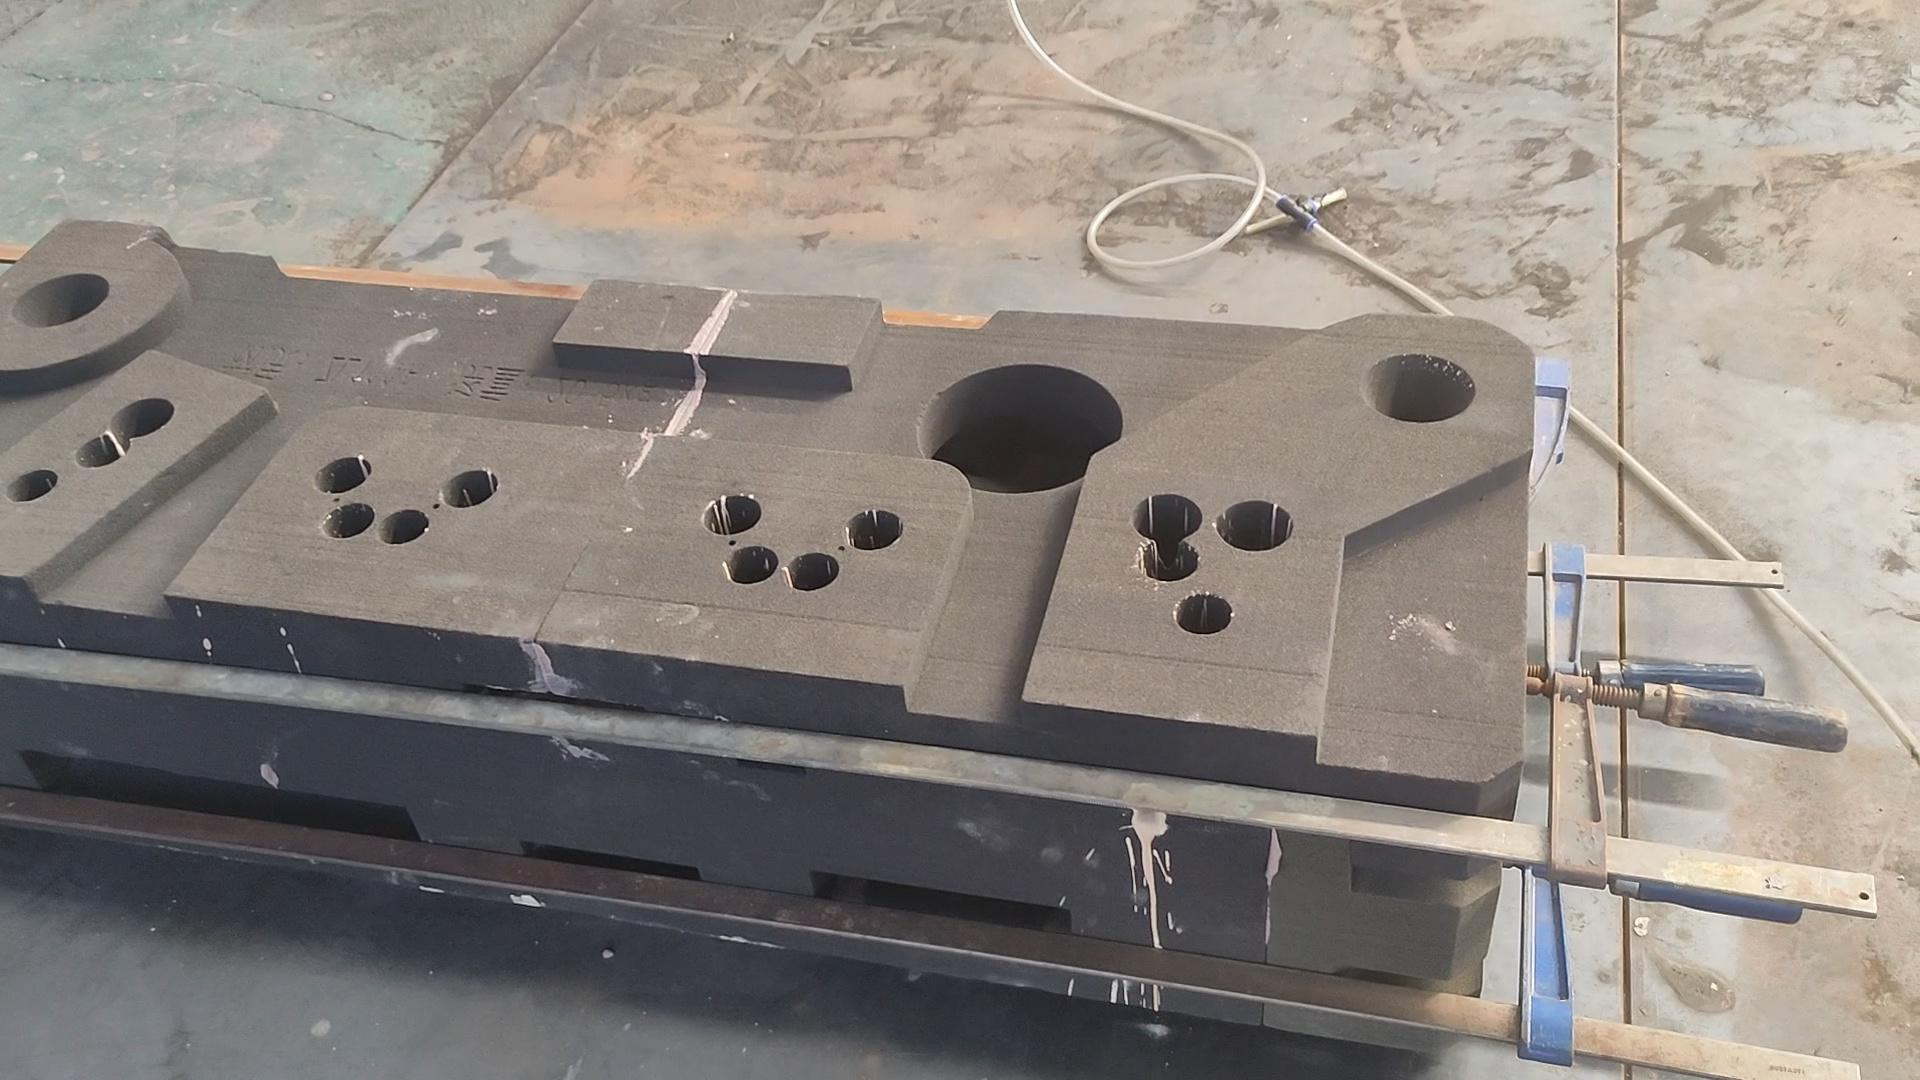pouring hole: (1360, 352, 1478, 421), (11, 272, 111, 328)
